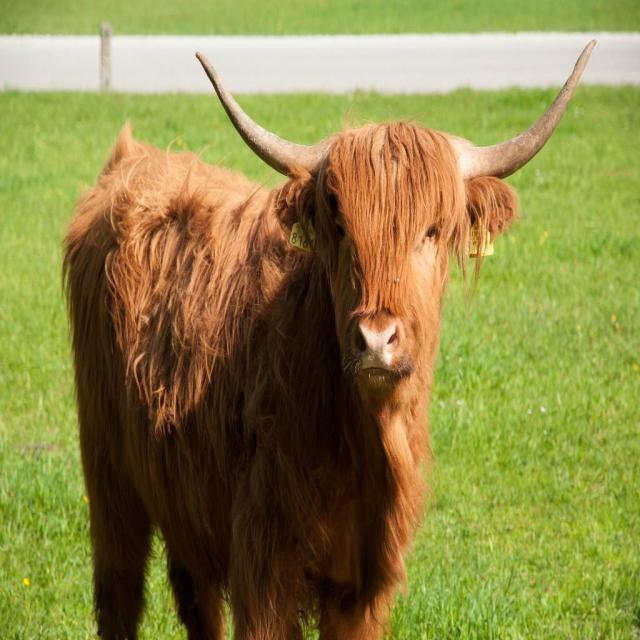Cattle: (59, 39, 596, 640)
